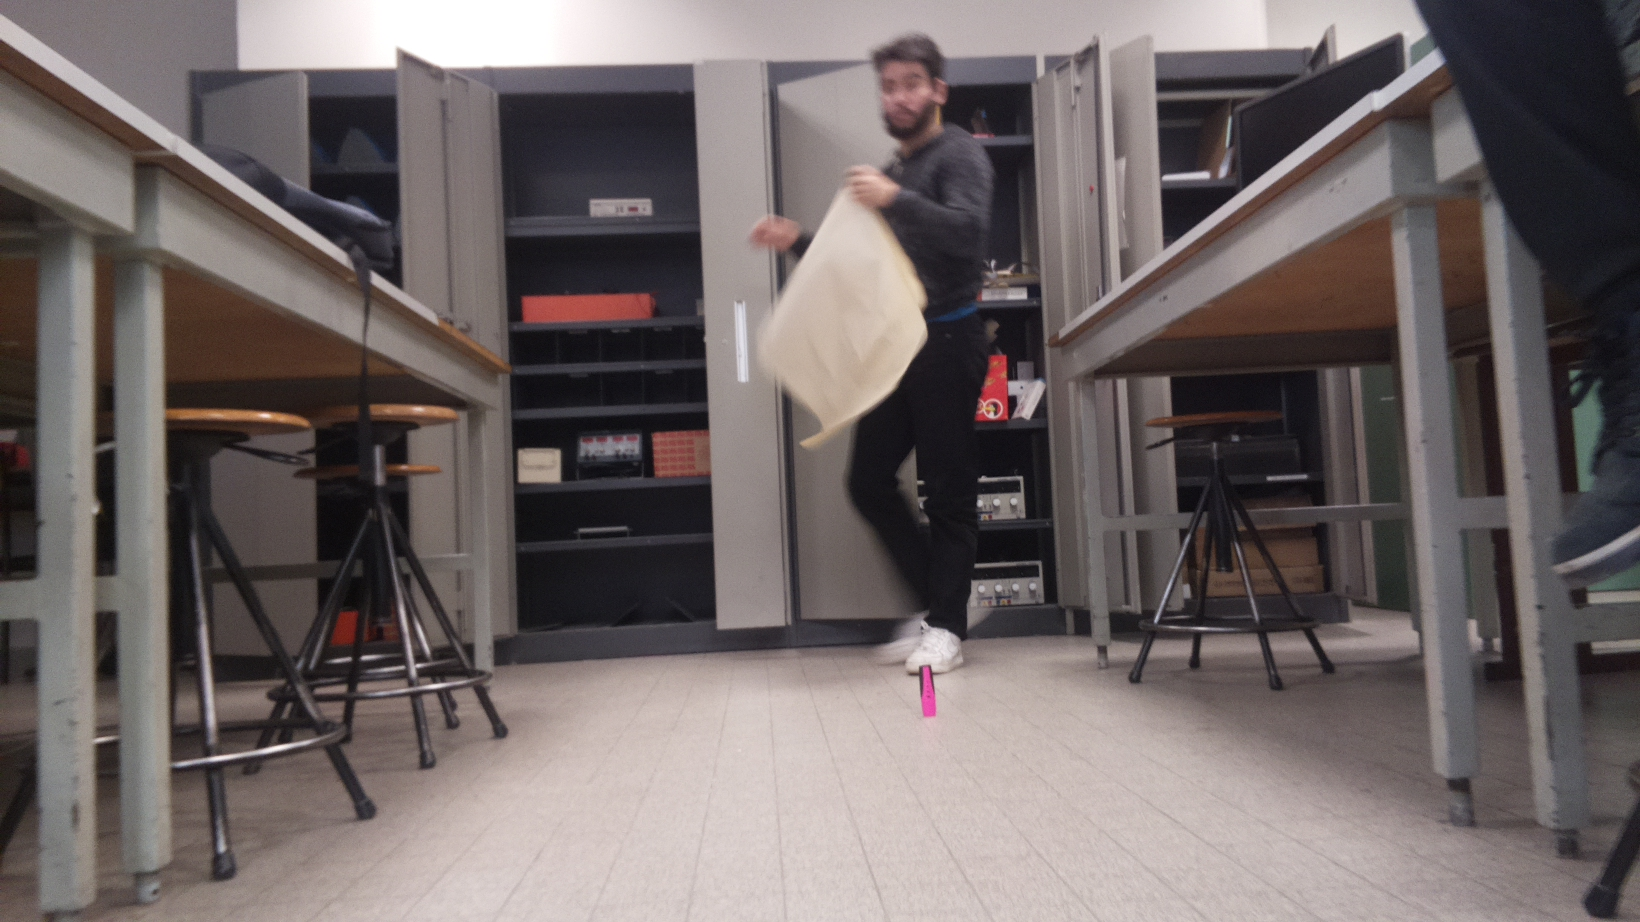small: (915, 664, 939, 720)
